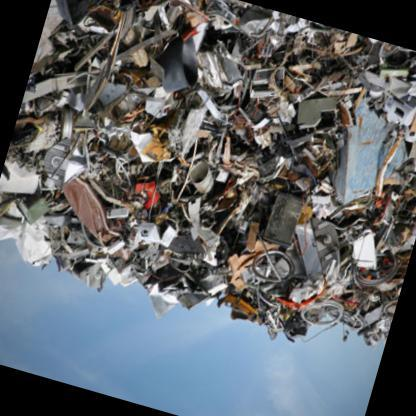Garbage: (0, 0, 415, 337), (8, 0, 412, 253), (0, 0, 248, 288), (204, 124, 408, 324)
